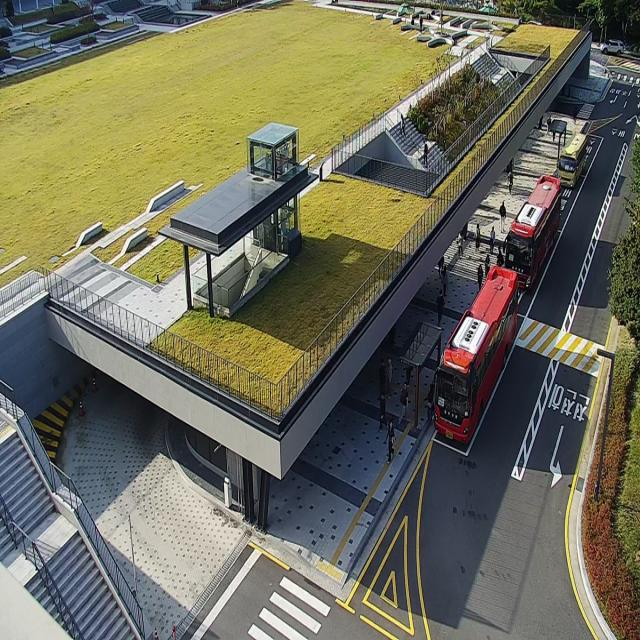queue: (414, 327, 442, 431)
